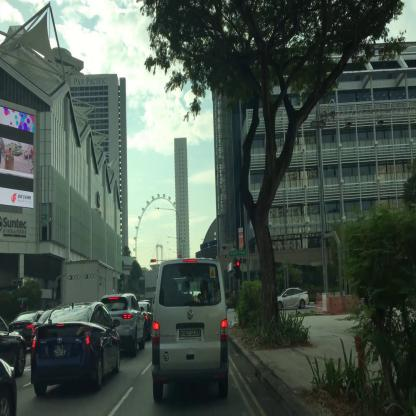red_traffic_light: (236, 261, 240, 277), (151, 258, 156, 262)
